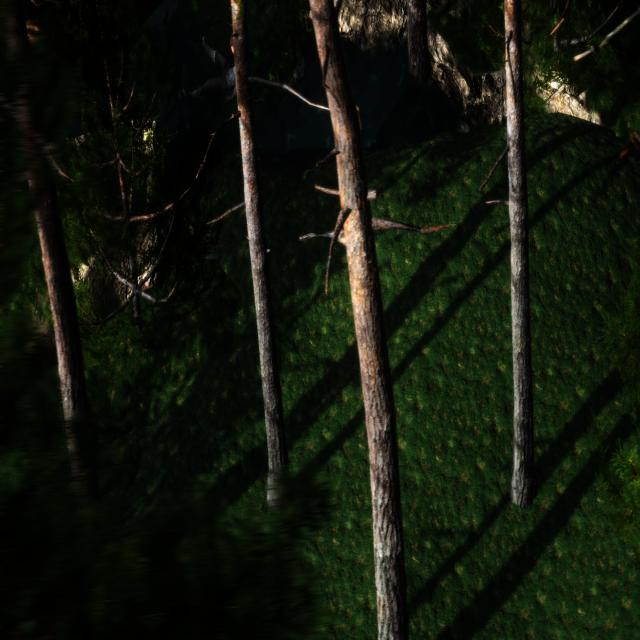Human: (184, 34, 238, 112)
